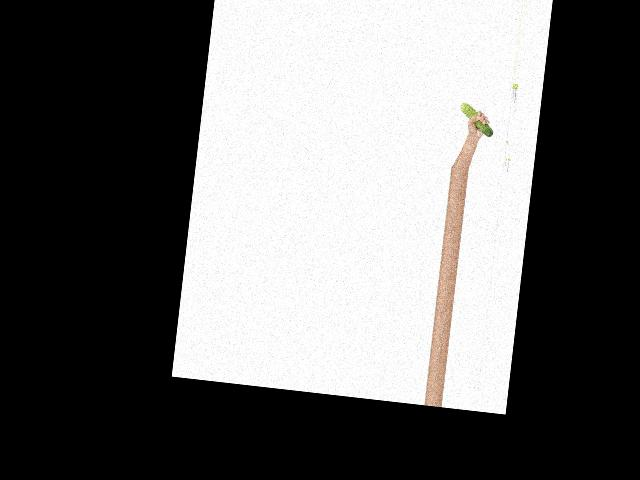cucumber: (457, 102, 496, 138)
